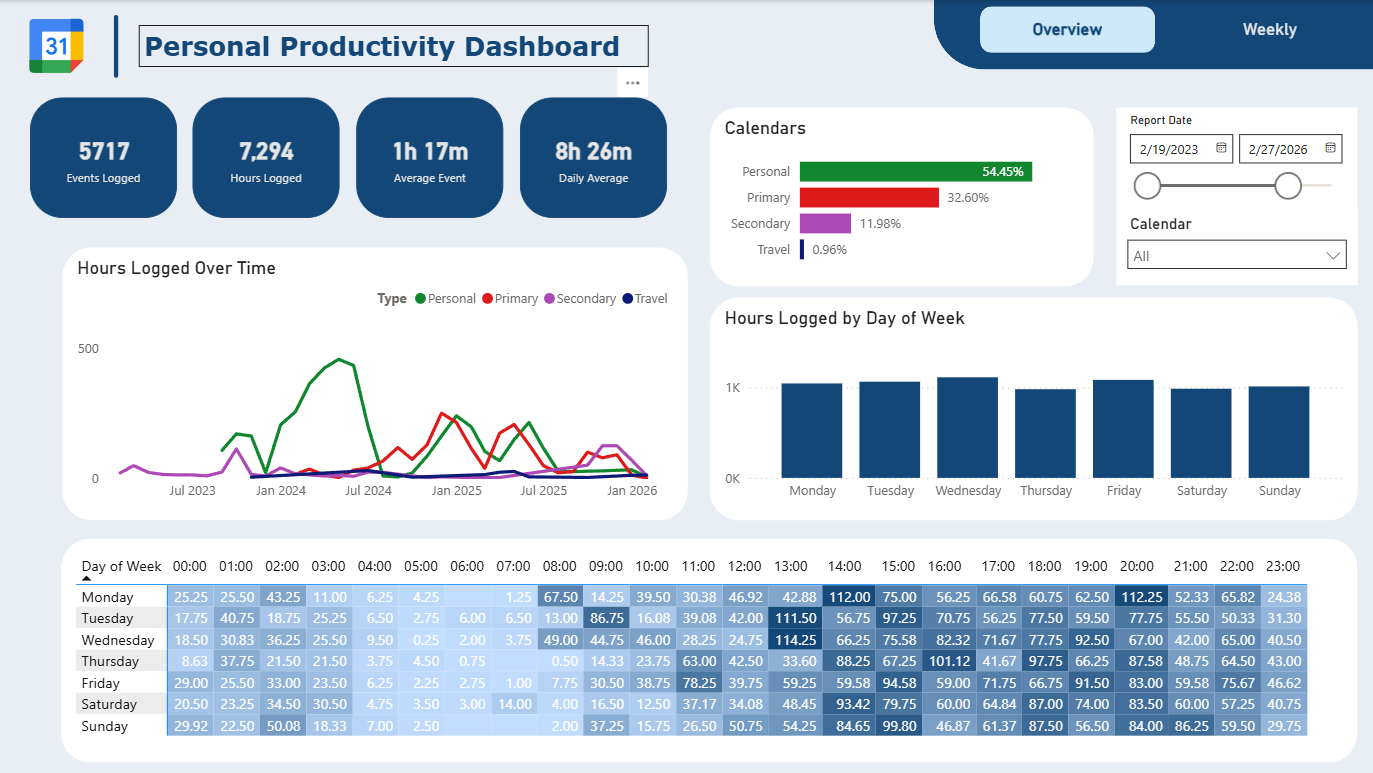

Layout of this report page (visuals, bound fields, positions):
{"tool":"powerbi","page":{"name":"Overview","canvas":[1280,720],"ordinal":0},"visuals":[{"type":"shape","box":[868.3,0,411.8,64.7],"z":0},{"type":"textbox","box":[129.4,22.9,473.9,39.8],"z":1000},{"type":"image","box":[22.9,18,58.8,50.4],"z":2000},{"type":"shape","box":[74.6,14.2,67.1,58.3],"z":3000},{"type":"actionButton","box":[911.8,6.2,163,43.5],"z":4000},{"type":"actionButton","box":[1099.7,6.2,163,43.5],"z":5000},{"type":"card","title":"Events Logged","fields":{"Values":["Count(public productivity.id)"]},"box":[27.4,90.8,136.8,112],"z":6000},{"type":"card","title":"Events Logged","fields":{"Values":["Sum(public productivity.Duration)"]},"box":[179.5,90.8,136.8,112],"z":7000},{"type":"card","title":"Events Logged","fields":{"Values":["public productivity.Avg Event Duration (Formatted)"]},"box":[331.7,90.8,136.8,112],"z":8000},{"type":"lineChart","title":"Hours Logged Over Time","fields":{"Y":["Sum(public productivity.Duration)"],"Series":["public productivity.Type"],"Category":["public productivity.Date.Variation.Date Hierarchy.Year","public productivity.Date.Variation.Date Hierarchy.Quarter","public productivity.Date.Variation.Date Hierarchy.Month","public productivity.Date.Variation.Date Hierarchy.Day"]},"box":[57.6,230.5,581.8,253.9],"z":9000},{"type":"slicer","fields":{"Values":["public productivity.Type"]},"box":[1038.5,194.5,224.4,71.1],"z":10000},{"type":"slicer","fields":{"Values":["public productivity.Date"]},"box":[1038.8,100.2,223.7,94.7],"z":11000},{"type":"clusteredColumnChart","title":"Hours Logged by Day of Week","fields":{"Y":["Sum(public productivity.Duration)"],"Category":["public productivity.Day Name"]},"box":[660,277.2,602.4,207.2],"z":12000},{"type":"pivotTable","title":"Hours Logged by Time","fields":{"Values":["Sum(public productivity.Duration)"],"Rows":["public productivity.Day Name"],"Columns":["public productivity.Hour of the Day"]},"box":[57.2,501.3,1205.4,207.7],"z":13000},{"type":"card","title":"Events Logged","fields":{"Values":["public productivity.Daily Average"]},"box":[483.9,90.8,136.8,112],"z":14000},{"type":"barChart","title":"Calendars","fields":{"Y":["CountNonNull(public productivity.Type)"],"Category":["public productivity.Type"]},"box":[660,100.2,356.8,166],"z":15000}]}

Visuals, with their boxes in screenshot pixels (x1, y1, x2, y2), scaled from the page's 1280x720 canvas onto the 1373x773 screenshot:
shape: locate(931, 0, 1372, 69)
textbox: locate(139, 25, 647, 67)
image: locate(25, 19, 88, 73)
shape: locate(80, 15, 152, 78)
actionButton: locate(978, 7, 1153, 53)
actionButton: locate(1180, 7, 1354, 53)
"Events Logged" card: locate(29, 97, 176, 218)
"Events Logged" card: locate(193, 97, 339, 218)
"Events Logged" card: locate(356, 97, 503, 218)
"Hours Logged Over Time" lineChart: locate(62, 247, 686, 520)
slicer - public productivity.Type: locate(1114, 209, 1355, 285)
slicer - public productivity.Date: locate(1114, 108, 1354, 209)
"Hours Logged by Day of Week" clusteredColumnChart: locate(708, 298, 1354, 520)
"Hours Logged by Time" pivotTable: locate(61, 538, 1354, 761)
"Events Logged" card: locate(519, 97, 666, 218)
"Calendars" barChart: locate(708, 108, 1091, 286)
